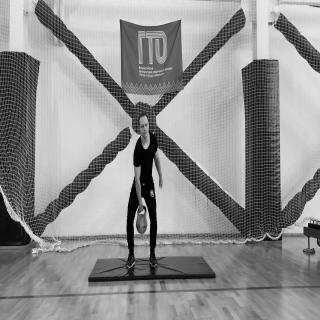kettlebell: (136, 207, 149, 235)
